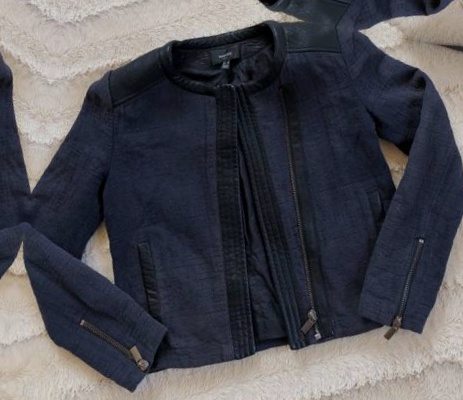Blazer: (4, 0, 463, 400), (0, 0, 63, 367), (72, 0, 463, 49), (448, 63, 463, 400)
